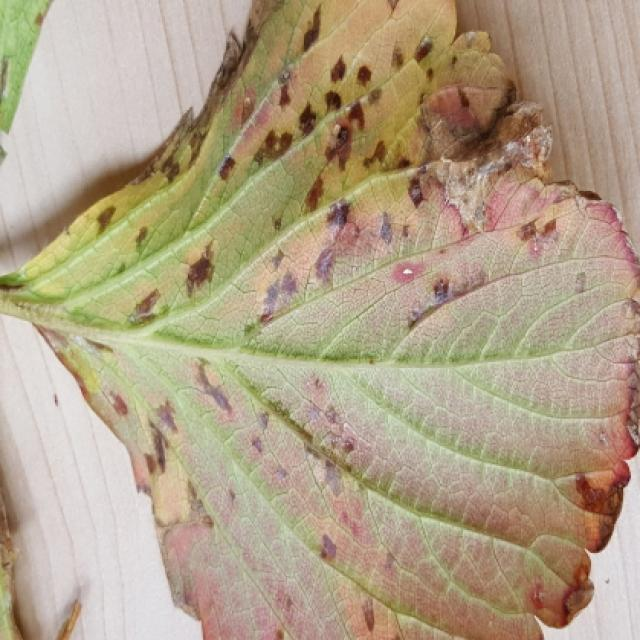Angular Leafspot: (0, 0, 638, 638)
